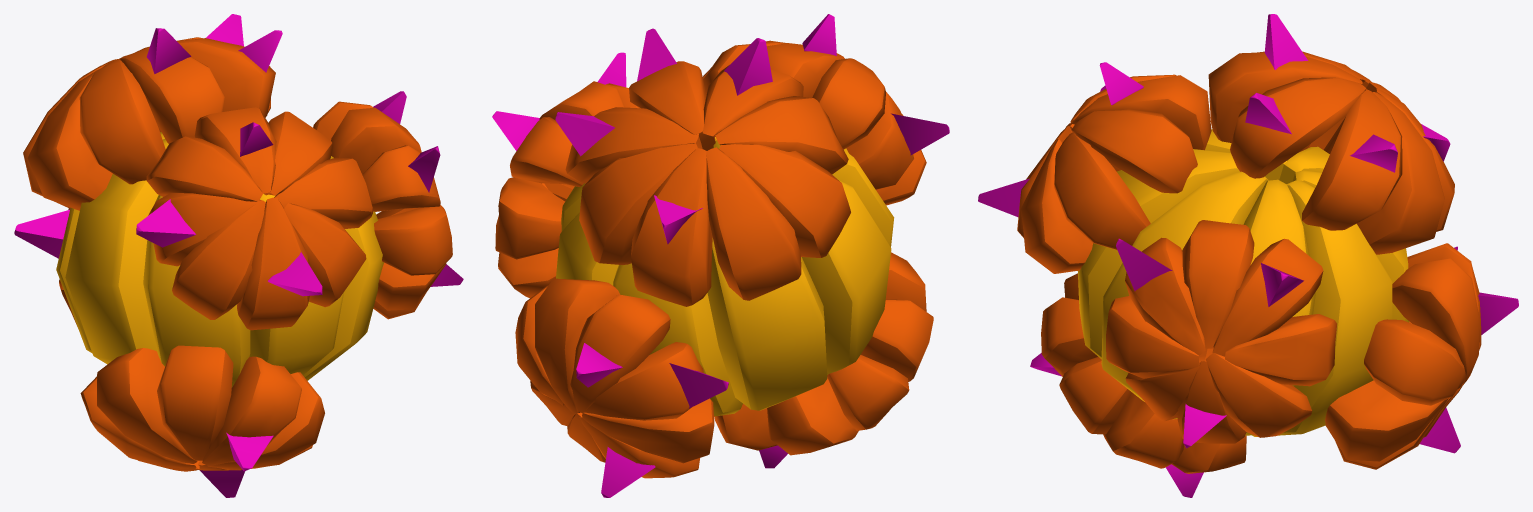
Rendered from p_mesh_hvs_lemonium_pose0.fbx.
The picture shows the model from 3 angles, left to right: view 1: azimuth 30°, elevation 25°; view 2: azimuth 150°, elevation 25°; view 3: azimuth 270°, elevation 25°; orthographic projection. The views are drawn at different scales.
Parts seen in each view (by area): view 1: p_harvests_lemonium_pose0; view 2: p_harvests_lemonium_pose0; view 3: p_harvests_lemonium_pose0.
Part boxes in pixels (x1,y1,x2,y2): p_harvests_lemonium_pose0: (14,14,463,497); p_harvests_lemonium_pose0: (492,14,949,497); p_harvests_lemonium_pose0: (978,14,1518,497).
Size of the model in its own units: 13 by 14.99 by 15.74.
